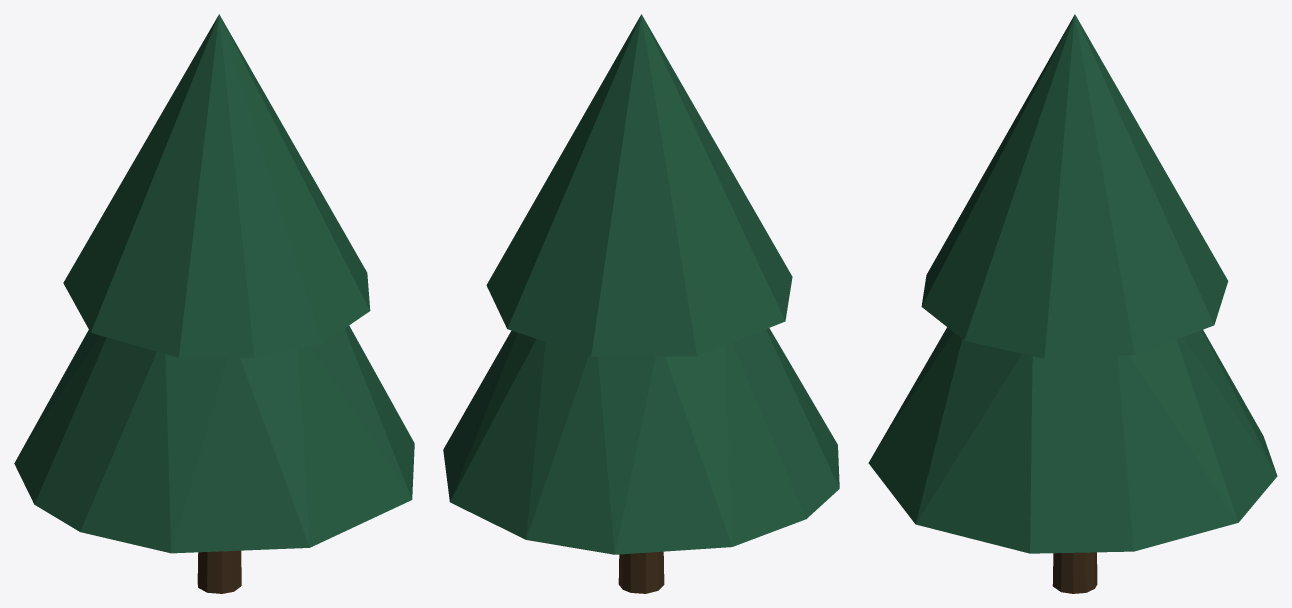
The model's file is tree12.fbx.
3 views of the same model, side by side, from view 1: azimuth 30°, elevation 25°; view 2: azimuth 150°, elevation 25°; view 3: azimuth 270°, elevation 25° (orthographic).
Visible parts, largest first — view 1: treetype12; view 2: treetype12; view 3: treetype12.
Part boxes in pixels (x1,y1,x2,y2): treetype12: (14,14,414,593); treetype12: (443,14,839,593); treetype12: (868,14,1277,593).
Bounding box in the file's own units: 105 × 165 × 107.
